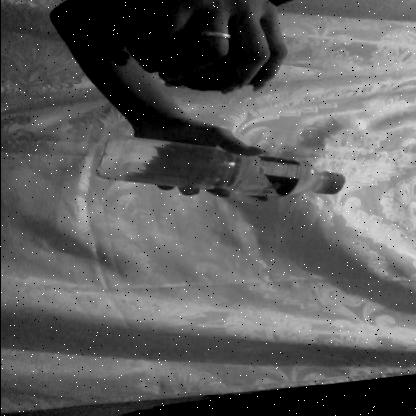Plastic Bottle: (72, 122, 368, 226)
